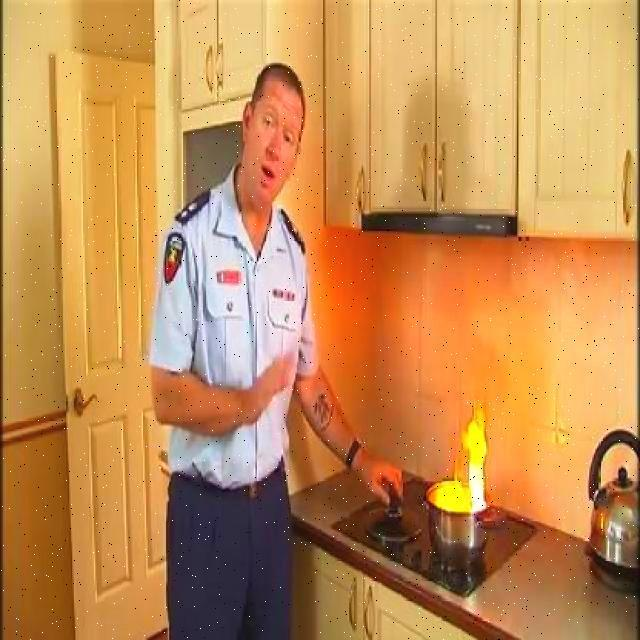Fire: (443, 412, 491, 509)
